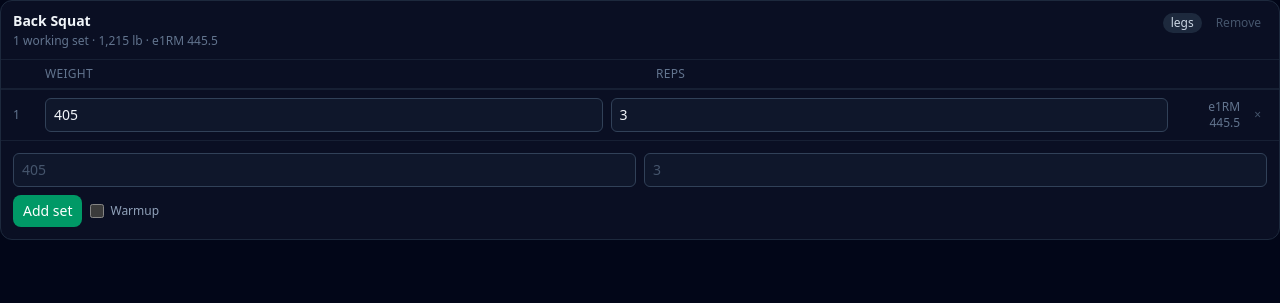
Test: ExerciseBlock › refuses to log invalid input
Type "0" into the field named "New set reps" at (956, 170), box [644,153,1267,187]
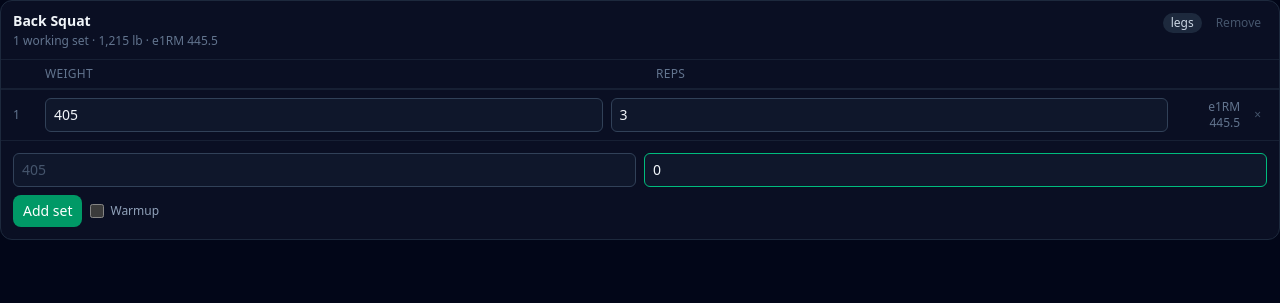
Click the button "Add set" at (48, 211), box [13,195,82,227]
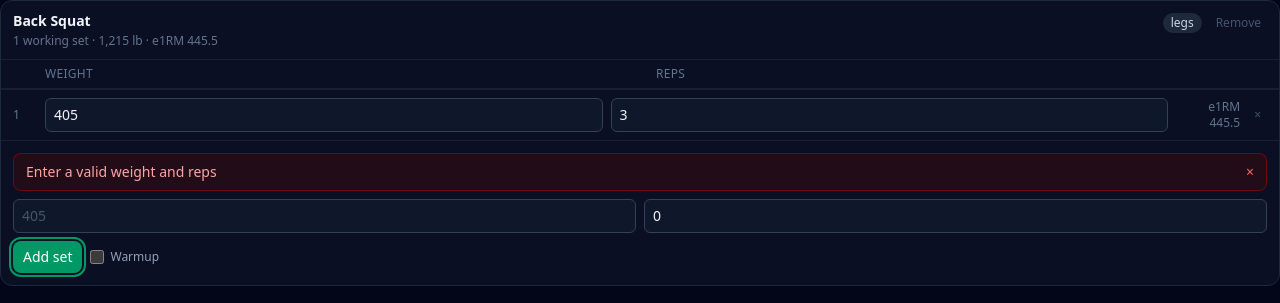
Result: the message shows "valid weight and reps" at [26,162,217,181]
